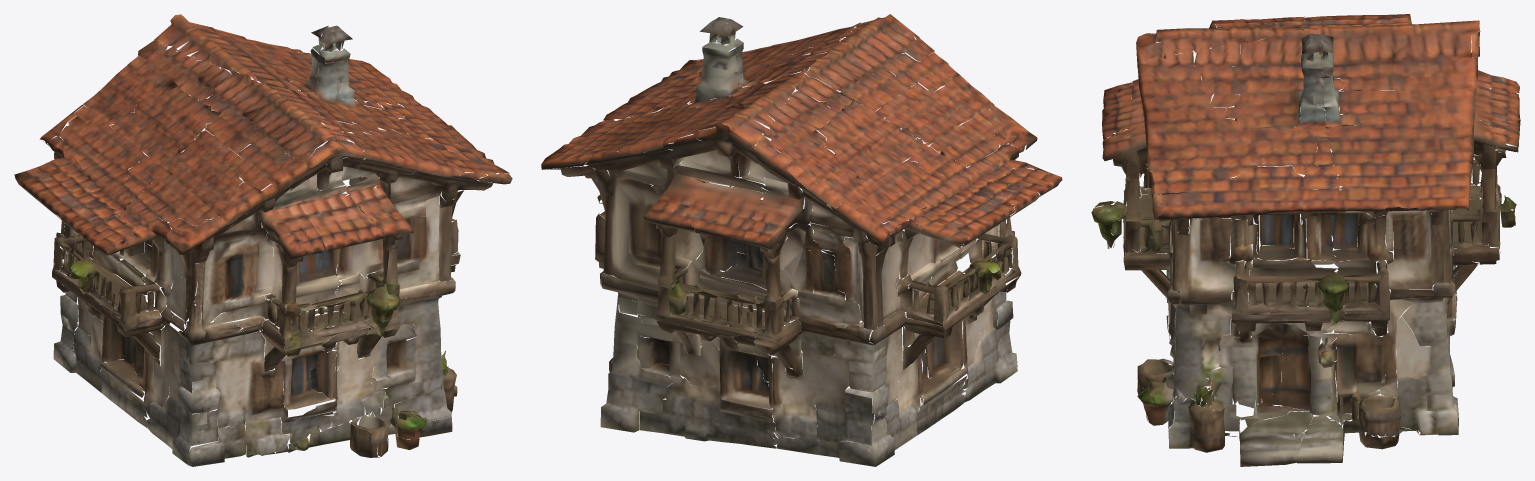
The model's file is Piece02.glb.
3 renders of one model, left to right at view 1: azimuth 30°, elevation 25°; view 2: azimuth 150°, elevation 25°; view 3: azimuth 270°, elevation 25°, orthographic. The views are drawn at different scales.
Visible parts, largest first — view 1: Eldoria_MultiPiece_Group_02; view 2: Eldoria_MultiPiece_Group_02; view 3: Eldoria_MultiPiece_Group_02.
Boxes of the visible parts, x1,y1,x2,y2 form: Eldoria_MultiPiece_Group_02: (14,14,512,466); Eldoria_MultiPiece_Group_02: (541,14,1062,466); Eldoria_MultiPiece_Group_02: (1091,14,1520,466).
Size of the model in its own units: 0.3963 by 0.3591 by 0.3603.
1 material, 1 textured.
